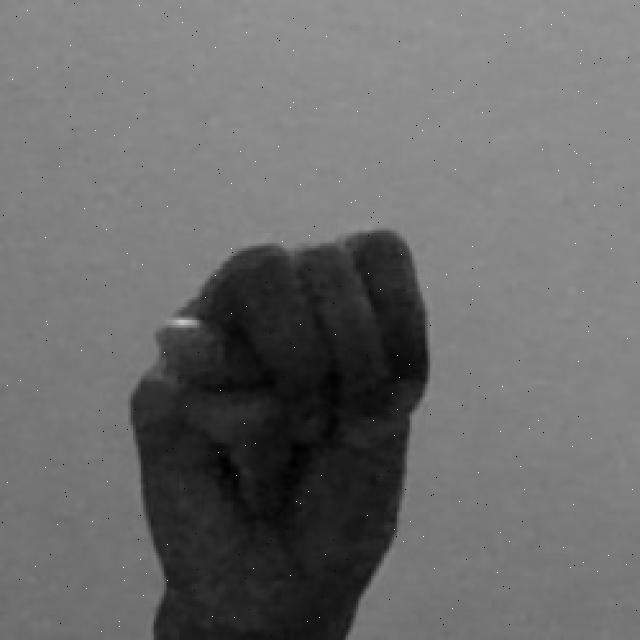M: (123, 222, 434, 640)
